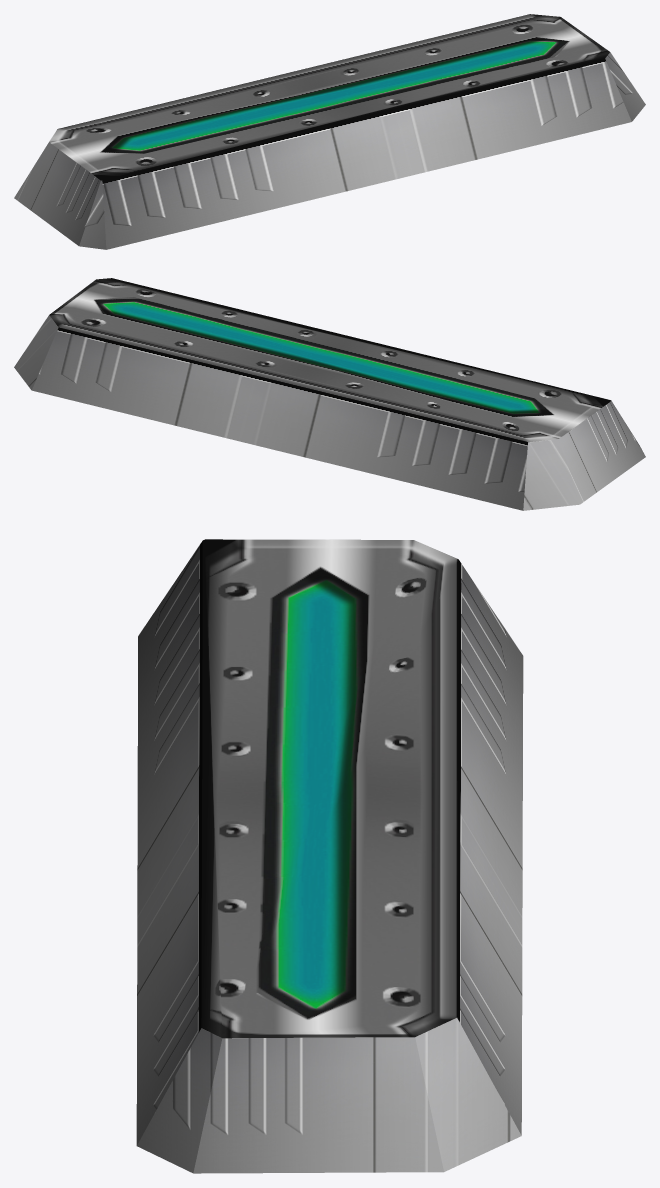
The model's file is light_3.FBX.
3 renders of one model, top to bottom at view 1: azimuth 30°, elevation 25°; view 2: azimuth 150°, elevation 25°; view 3: azimuth 270°, elevation 25°, orthographic. The views are drawn at different scales.
Parts seen in each view (by area): view 1: light_3; view 2: light_3; view 3: light_3.
Boxes of the visible parts, x1,y1,x2,y2 form: light_3: [14, 14, 645, 249]; light_3: [14, 278, 645, 510]; light_3: [136, 539, 523, 1173].
Bounding box in the file's own units: 71.31 × 6.48 × 21.04.
Materials: 1 (1 with a texture image).
